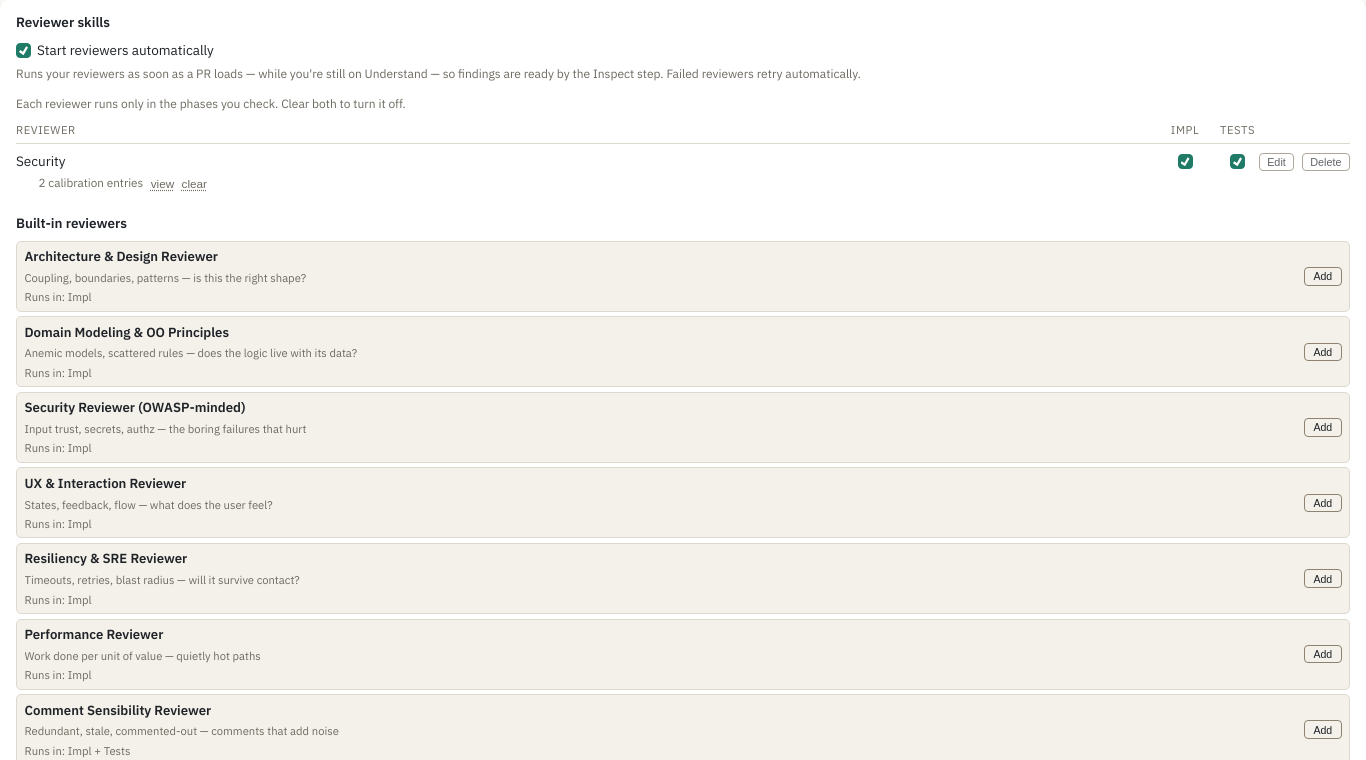
Test case: SkillsSection — dismissal-calibration surface › per-entry delete removes exactly that entry from the ledger
What coordinates should you click on to do the following:
click the button with aria-label "view calibration entries"
I would click on:
 (162, 184)
Its box is [151, 177, 174, 190].
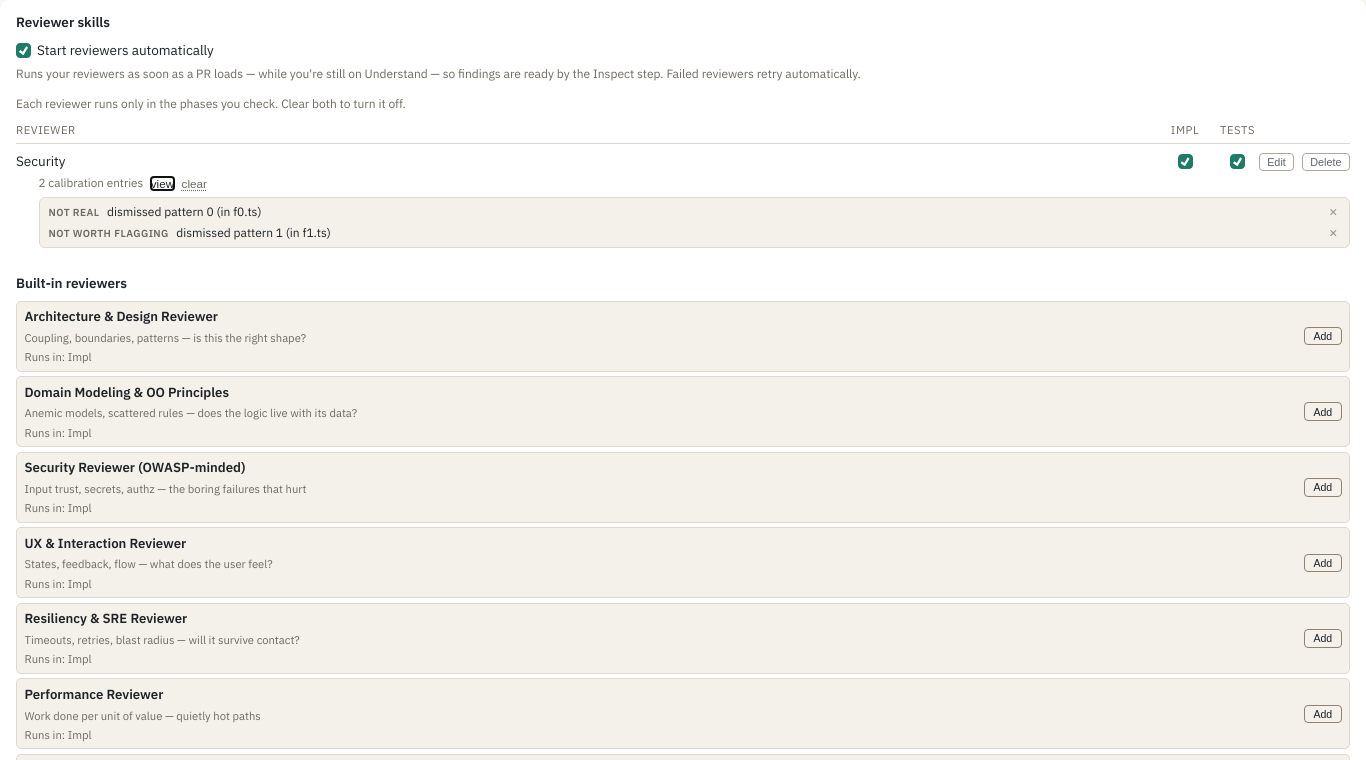
Expected: the number of buttons named "Delete calibration entry" is 2
What coordinates should you click on to do the following:
click the button named "Delete calibration entry"
I would click on:
 (1333, 213)
Its box is [1326, 207, 1340, 218].
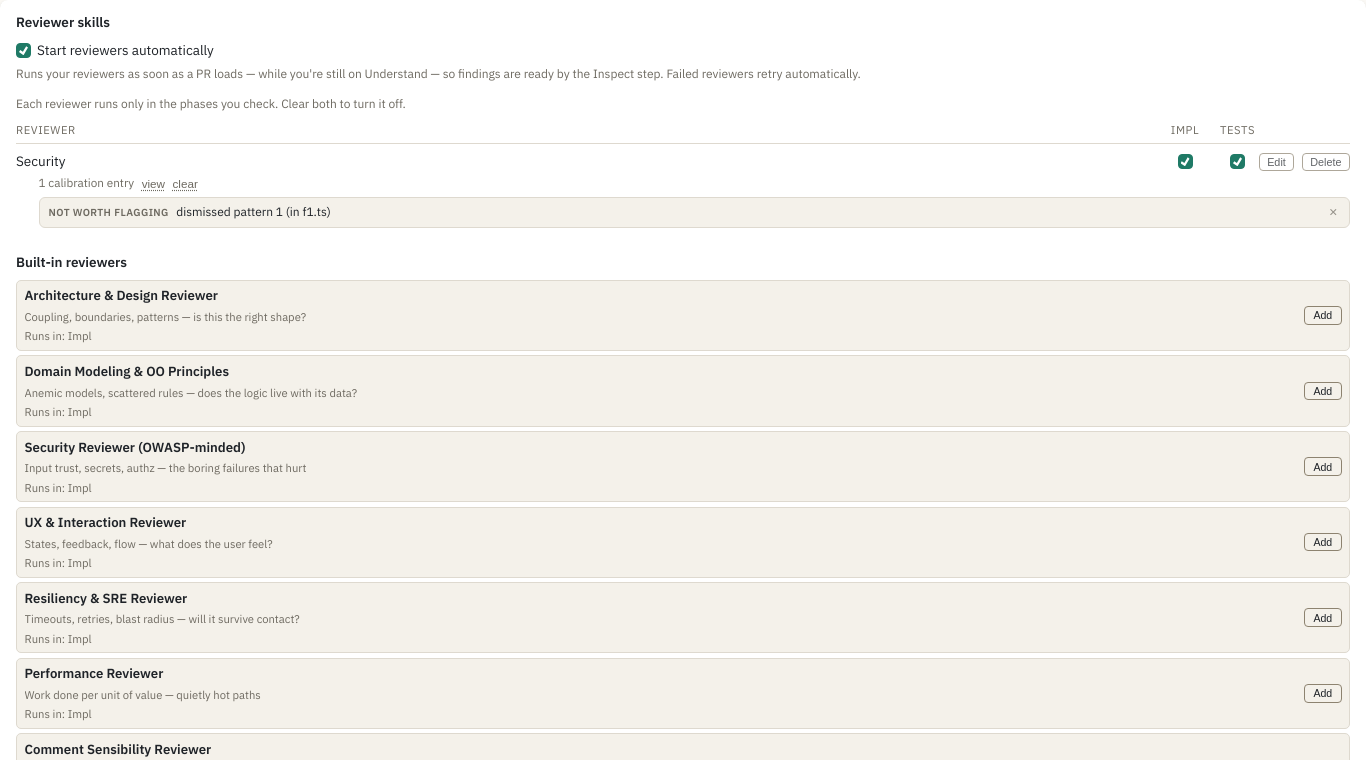
Expected: the element with test id "calibration-line" shows "1 calibration entry", [38, 175, 134, 190]
